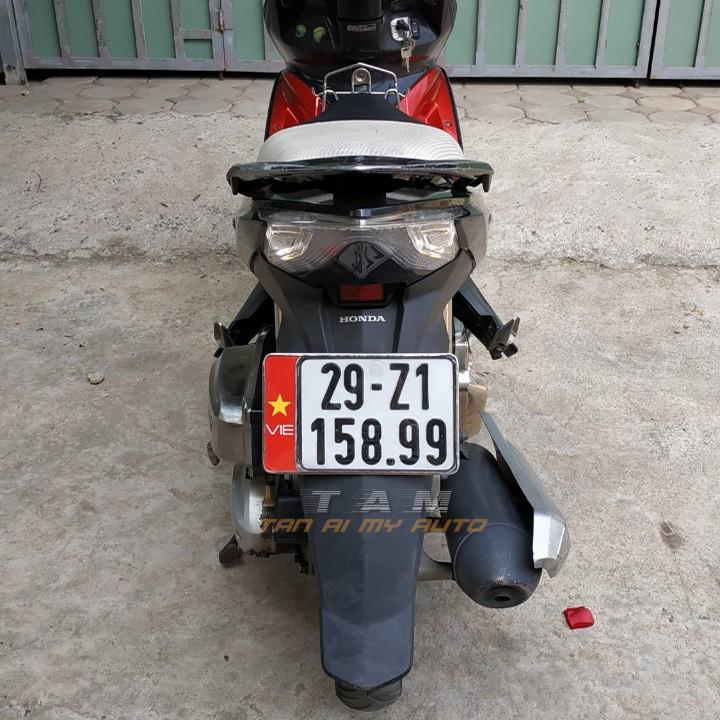numplate: (256, 349, 463, 477)
